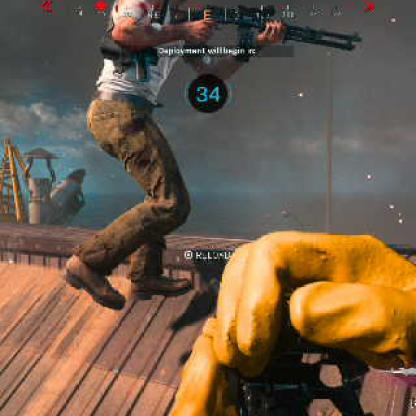enemy: (73, 2, 217, 306)
